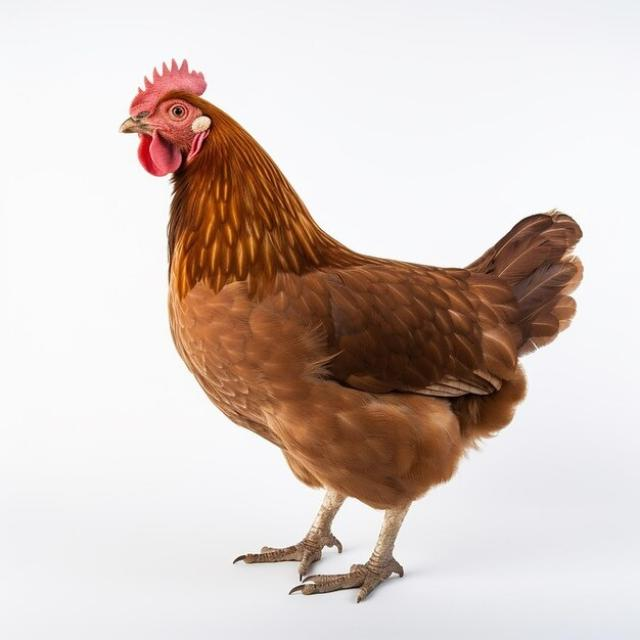Chicken: (116, 56, 583, 602)
